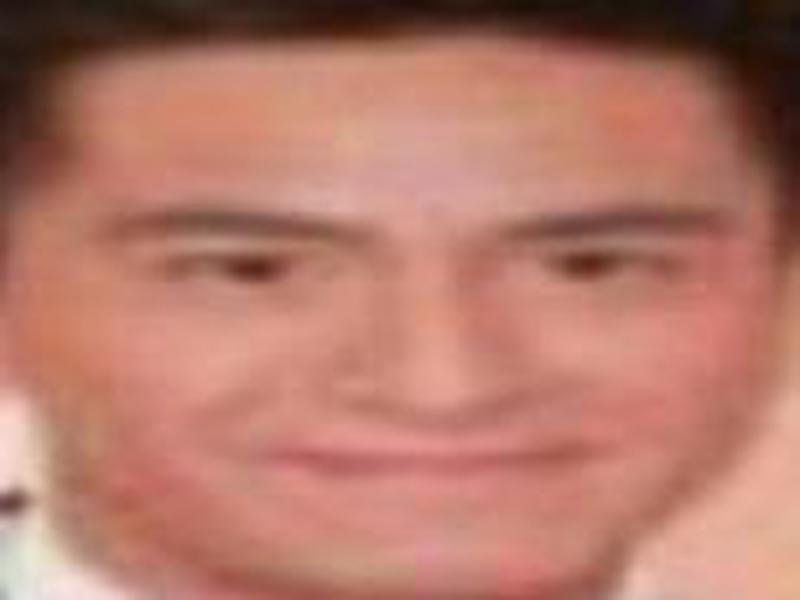without_mask: (27, 50, 778, 595)
